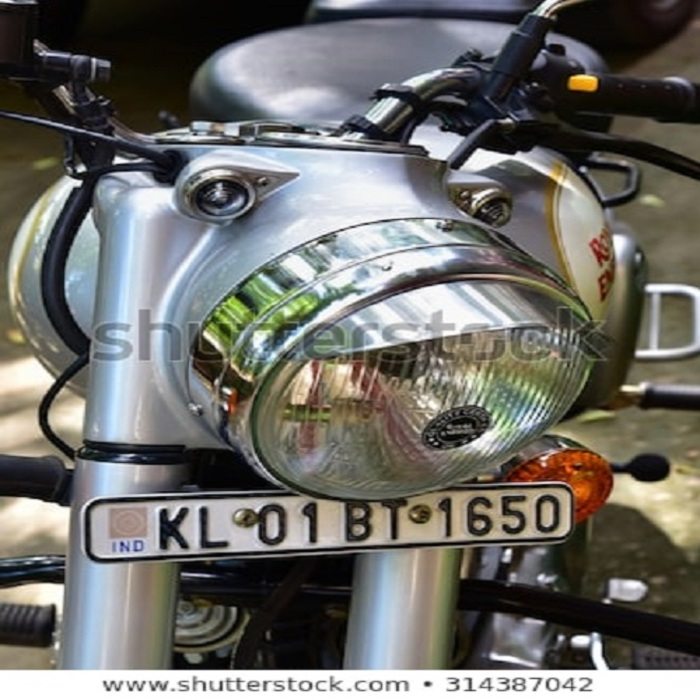n: (79, 496, 587, 553)
